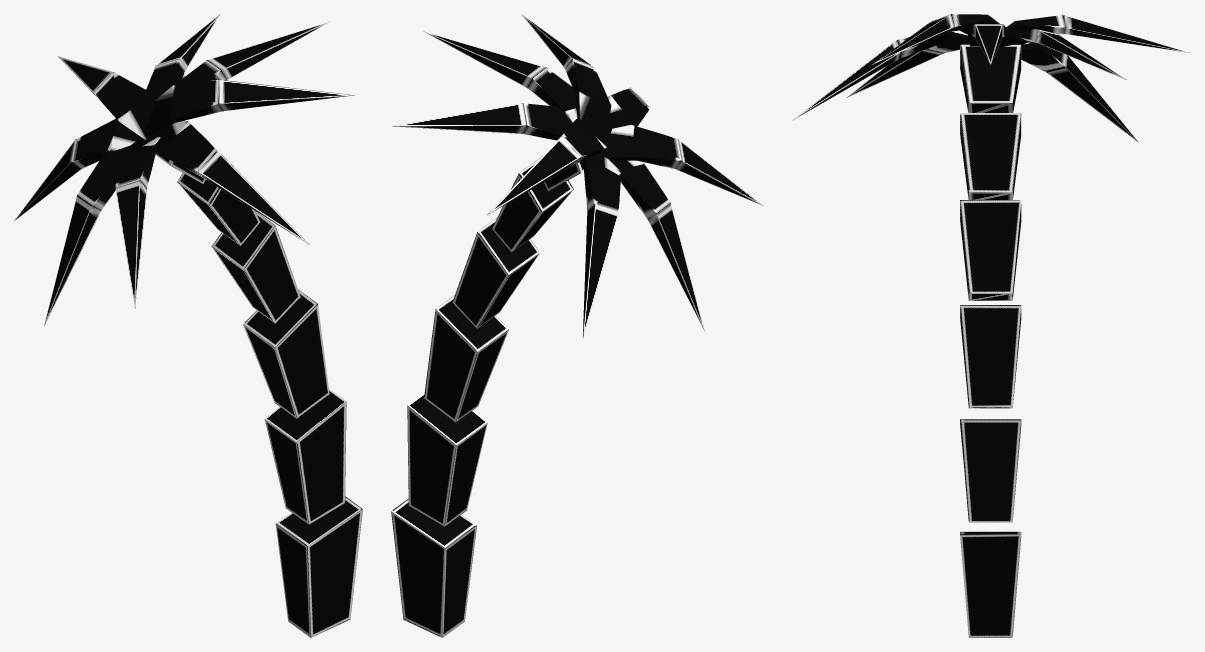
File: NEWPalmTree.FBX
The picture shows the model from 3 angles, left to right: view 1: azimuth 30°, elevation 25°; view 2: azimuth 150°, elevation 25°; view 3: azimuth 270°, elevation 25°; orthographic projection. The views are drawn at different scales.
Parts seen in each view (by area): view 1: Box001, Box002, Box003, Box004, Pyramid005, Pyramid002, Pyramid007, Pyramid004, Pyramid001, Pyramid008, Box005, Pyramid003 (+1 smaller); view 2: Box001, Box002, Box003, Box004, Pyramid008, Pyramid007, Pyramid004, Pyramid006, Pyramid003, Box005, Pyramid005, Pyramid001 (+1 smaller); view 3: Box001, Box003, Box002, Box004, Box005, Box006, Pyramid008, Pyramid001, Pyramid002, Pyramid006, Pyramid005, Pyramid007 (+1 smaller).
Boxes of the visible parts, x1,y1,x2,y2 form: Box001: [275, 496, 362, 637]; Box002: [264, 389, 346, 524]; Box003: [243, 289, 329, 419]; Box004: [211, 211, 300, 323]; Pyramid005: [144, 79, 354, 135]; Pyramid002: [147, 120, 309, 244]; Pyramid007: [115, 137, 160, 308]; Pyramid004: [44, 146, 129, 325]; Pyramid001: [58, 56, 155, 139]; Pyramid008: [14, 119, 142, 220]; Box005: [177, 164, 260, 245]; Pyramid003: [174, 21, 329, 85]; Box001: [391, 499, 476, 637]; Box002: [407, 393, 487, 526]; Box003: [424, 295, 508, 422]; Box004: [452, 217, 539, 328]; Pyramid008: [582, 153, 621, 338]; Pyramid007: [600, 125, 762, 205]; Pyramid004: [608, 158, 704, 330]; Pyramid006: [393, 103, 572, 140]; Pyramid003: [423, 31, 577, 122]; Box005: [492, 156, 573, 252]; Pyramid005: [521, 14, 611, 144]; Pyramid001: [487, 118, 606, 214]; Box001: [960, 531, 1021, 637]; Box003: [960, 305, 1021, 408]; Box002: [960, 419, 1021, 522]; Box004: [960, 200, 1021, 300]; Box005: [960, 113, 1021, 199]; Box006: [960, 44, 1021, 112]; Pyramid008: [1021, 43, 1138, 142]; Pyramid001: [975, 15, 1189, 52]; Pyramid002: [793, 31, 969, 119]; Pyramid006: [977, 29, 1126, 79]; Pyramid005: [871, 14, 999, 65]; Pyramid007: [846, 43, 959, 97].
Bounding box in the file's own units: 3.5 × 6.64 × 4.15.
